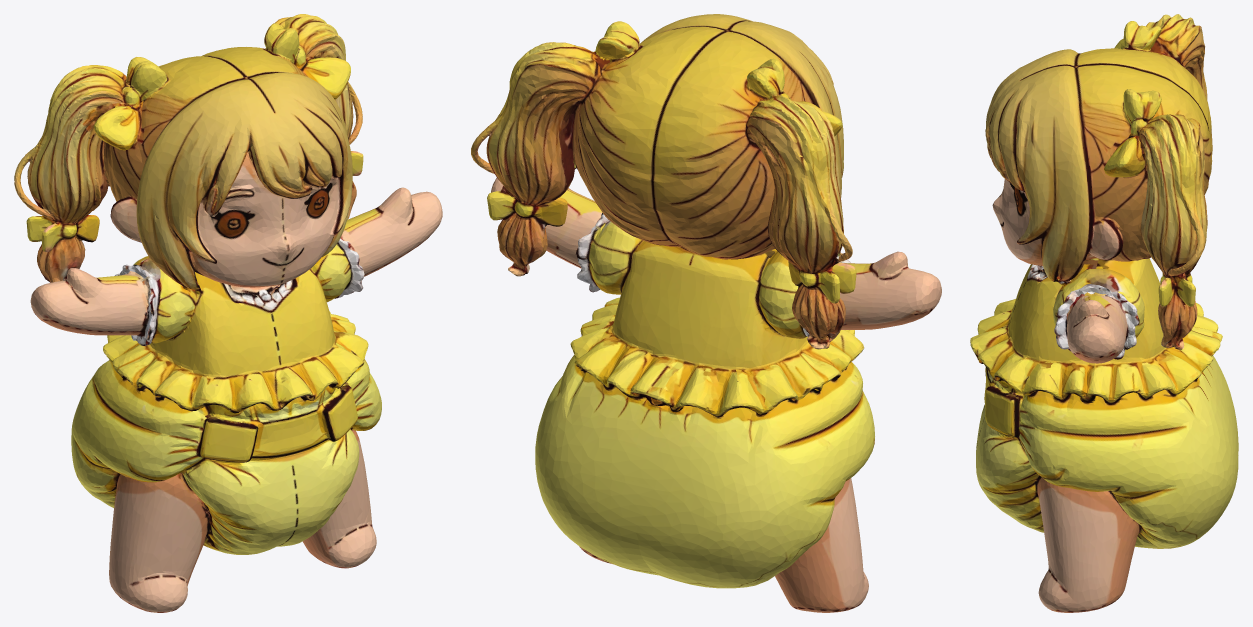
File: stelladoll.glb
The picture shows the model from 3 angles, left to right: view 1: azimuth 30°, elevation 25°; view 2: azimuth 150°, elevation 25°; view 3: azimuth 270°, elevation 25°; orthographic projection. The views are drawn at different scales.
Parts seen in each view (by area): view 1: temp_mesh.ply; view 2: temp_mesh.ply; view 3: temp_mesh.ply.
Boxes of the visible parts, <box> form: temp_mesh.ply: <box>14,14,442,612</box>; temp_mesh.ply: <box>471,14,941,612</box>; temp_mesh.ply: <box>970,14,1238,612</box>.
Size of the model in its own units: 1.61 by 1.97 by 0.9441.
Materials: 1 (1 with a texture image).
